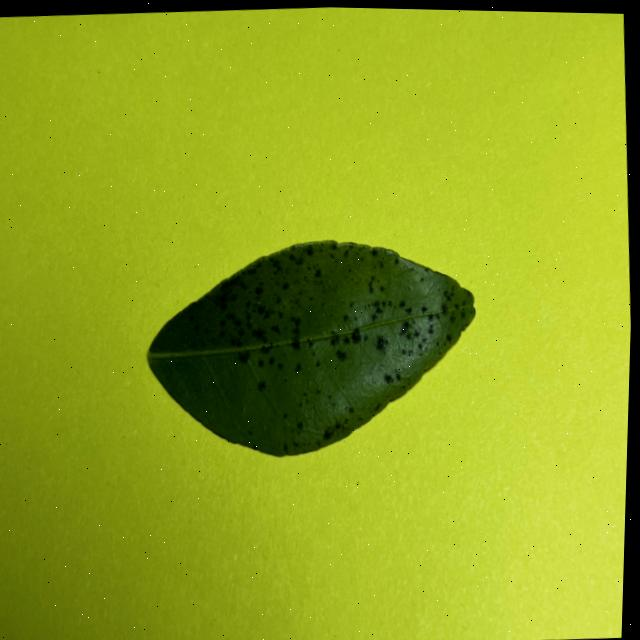sooty_mold: (154, 240, 475, 455)
